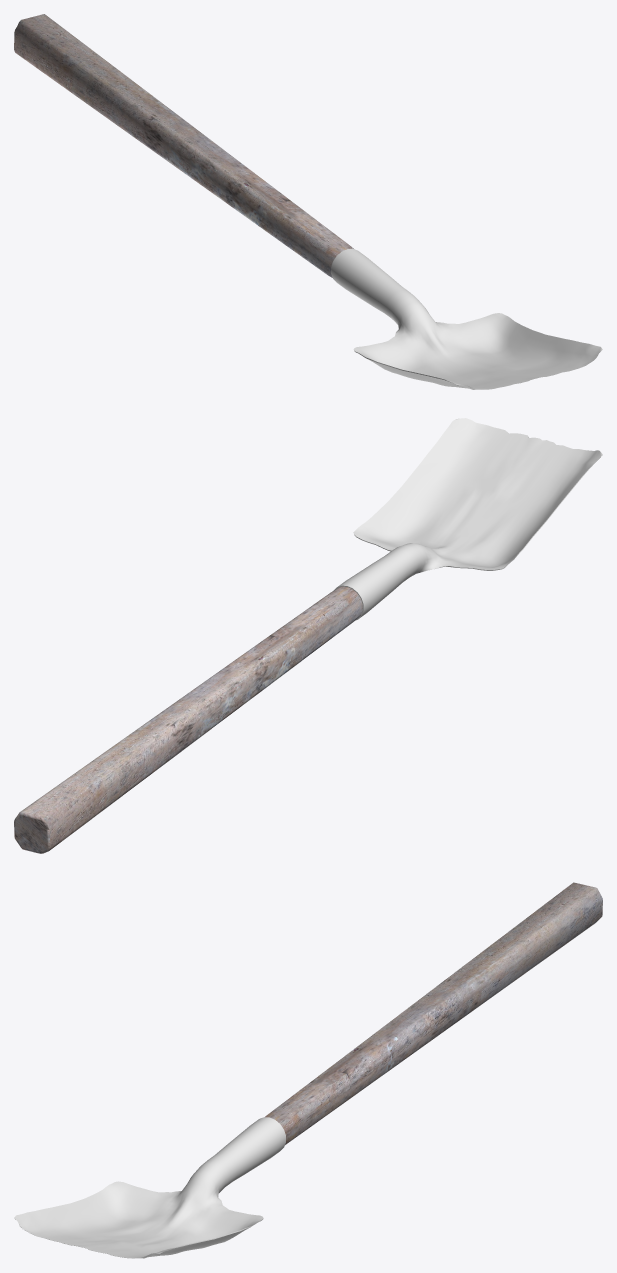
Rendered from Spade.fbx.
3 renders of one model, top to bottom at view 1: azimuth 30°, elevation 25°; view 2: azimuth 150°, elevation 25°; view 3: azimuth 330°, elevation 25°, orthographic.
Parts seen in each view (by area): view 1: SpadeHandle, Spade_m; view 2: Spade_m, SpadeHandle; view 3: SpadeHandle, Spade_m.
Part boxes in pixels (x1,y1,x2,y2): SpadeHandle: (14,14,353,277); Spade_m: (331,248,602,389); Spade_m: (334,418,602,620); SpadeHandle: (14,586,362,853); SpadeHandle: (265,882,602,1144); Spade_m: (14,1117,285,1258).
Bounding box in the file's own units: 22.28 × 7.93 × 130.
Materials: 1 (1 with a texture image).
